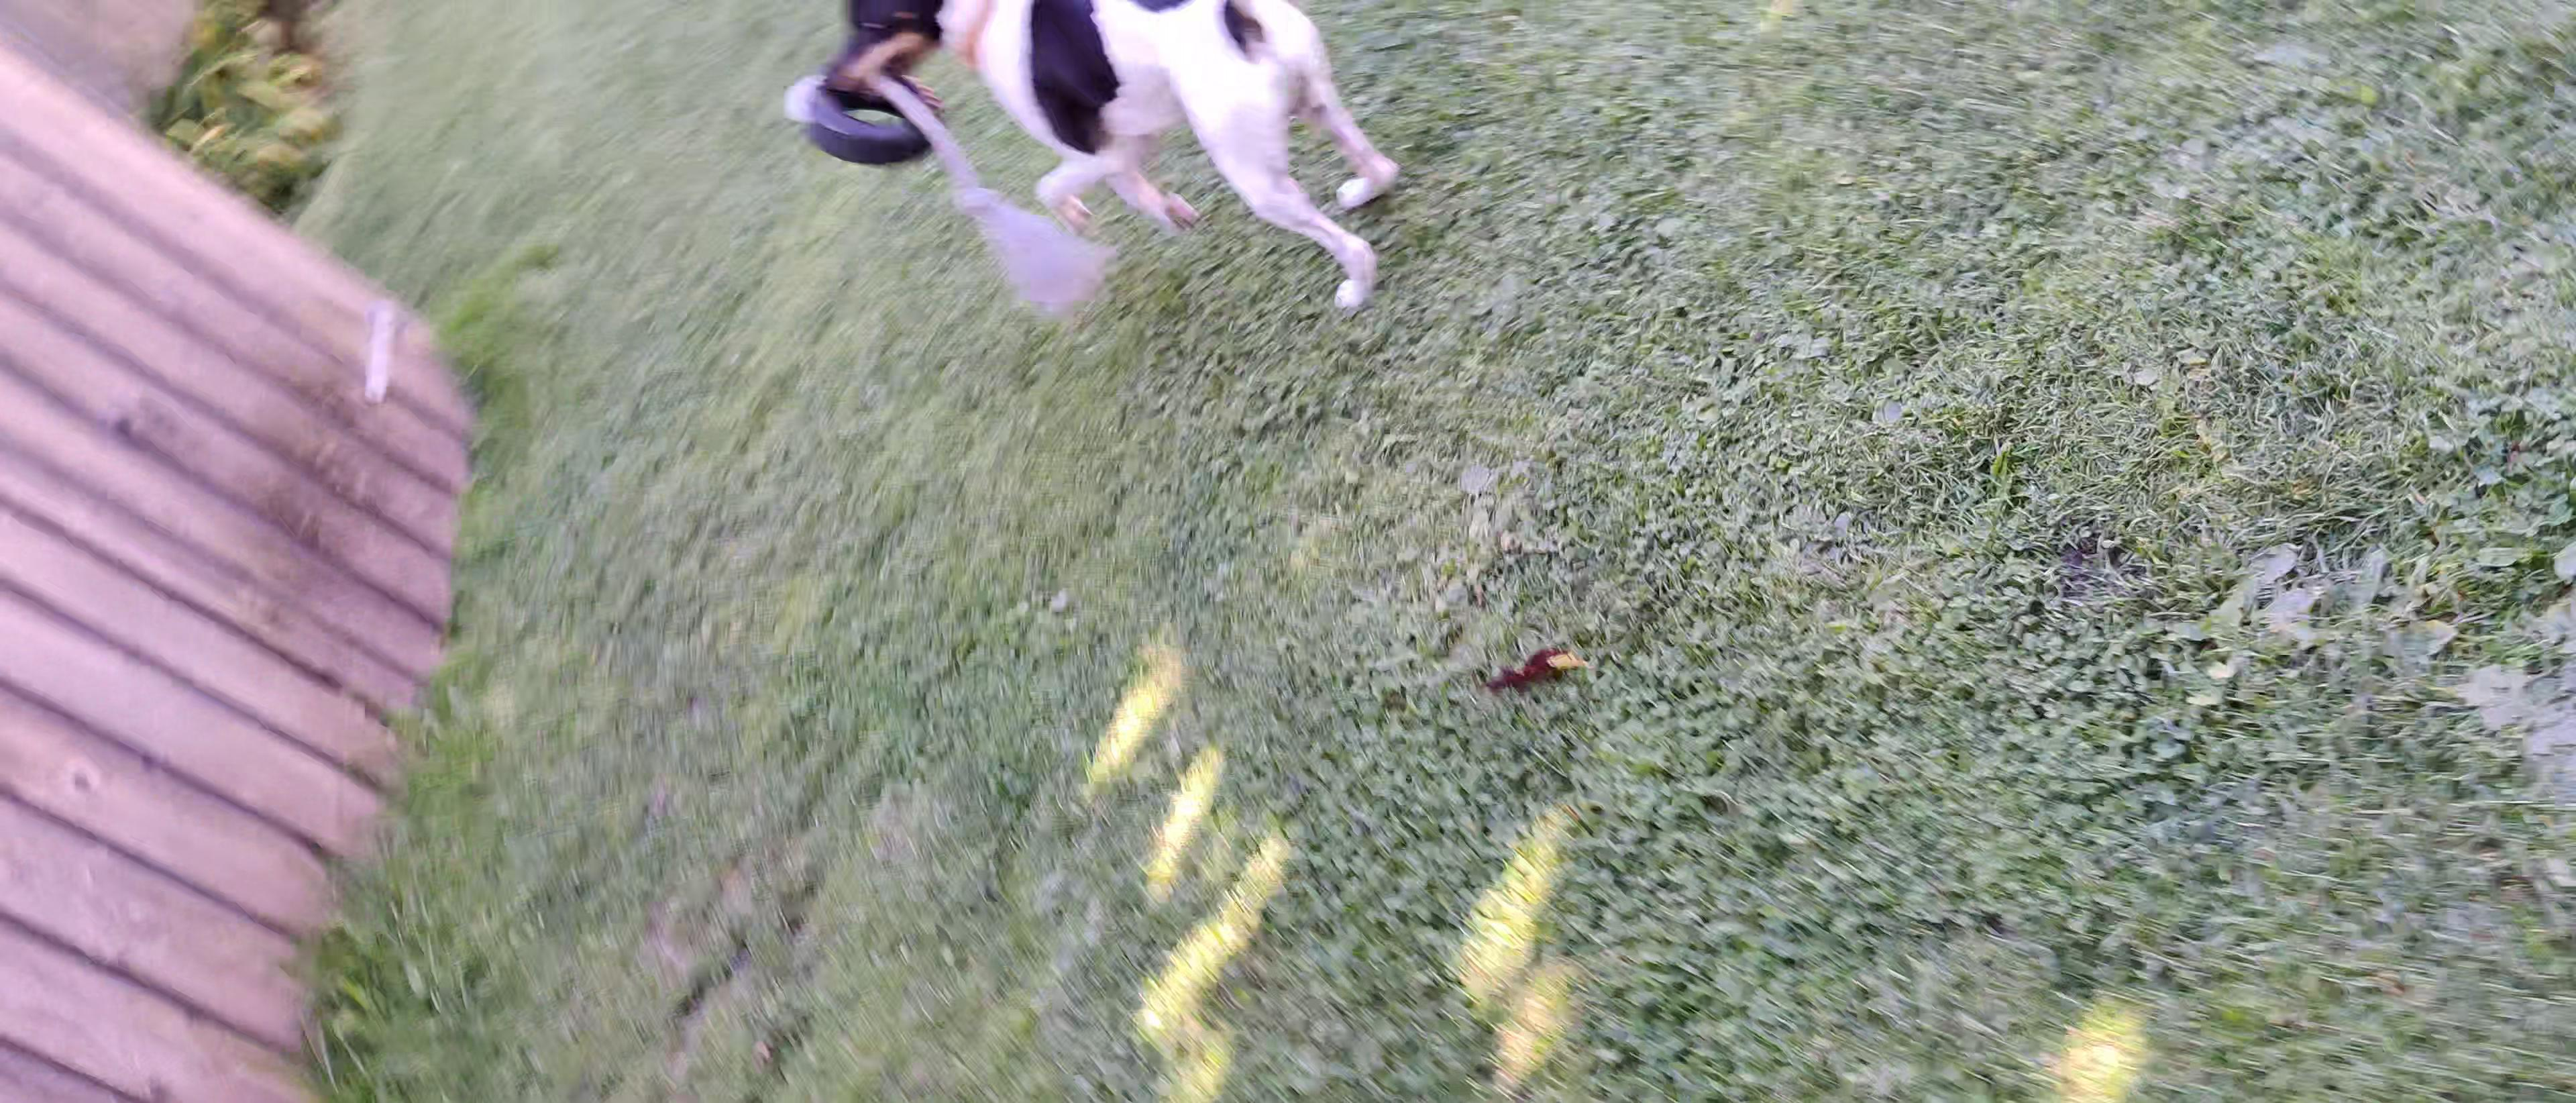Dog: (810, 0, 1413, 329)
